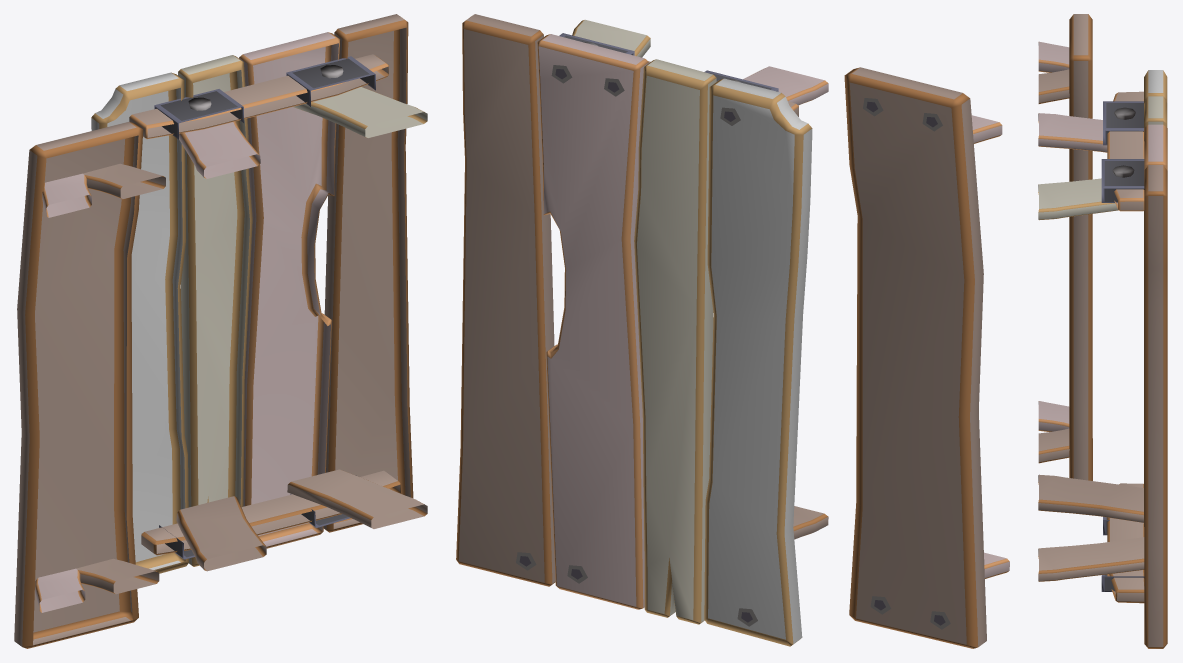
Rendered from picnicTable.fbx.
The picture shows the model from 3 angles, left to right: view 1: azimuth 30°, elevation 25°; view 2: azimuth 150°, elevation 25°; view 3: azimuth 270°, elevation 25°; orthographic projection. The views are drawn at different scales.
Parts seen in each view (by area): view 1: picnicTable; view 2: picnicTable; view 3: picnicTable.
Part boxes in pixels (x1=…): picnicTable: x1=14, y1=14, x2=427, y2=648; picnicTable: x1=456, y1=14, x2=1009, y2=648; picnicTable: x1=1038, y1=14, x2=1167, y2=648.
Bounding box in the file's own units: 153 × 168 × 43.31.
